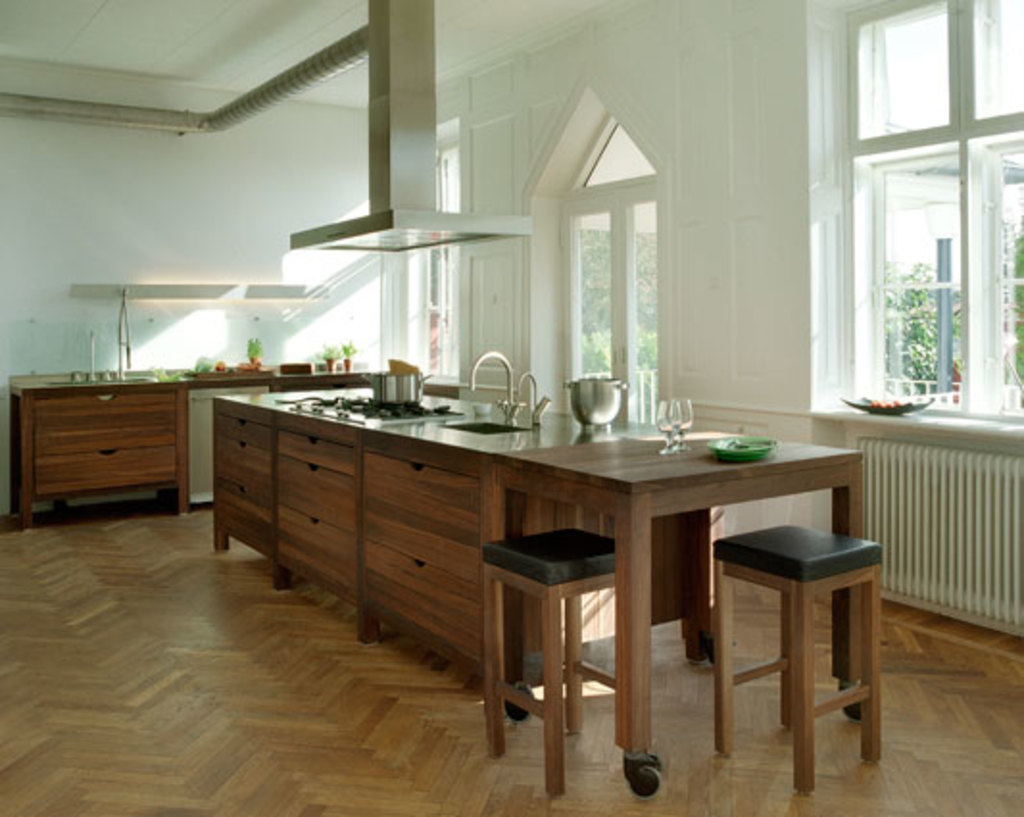cabinet door: (367, 443, 491, 512), (382, 530, 478, 608), (42, 396, 162, 430), (295, 508, 361, 563), (44, 439, 157, 471), (286, 453, 351, 495), (220, 475, 280, 519), (223, 410, 274, 439), (284, 427, 347, 450), (222, 440, 265, 472)
door: (614, 205, 655, 414), (571, 216, 614, 414)
handle: (407, 549, 426, 579), (91, 441, 119, 460), (98, 391, 119, 413), (406, 458, 429, 478), (306, 504, 319, 533), (302, 432, 322, 449), (236, 433, 253, 452), (232, 412, 247, 430), (302, 455, 318, 471), (235, 479, 249, 497)
